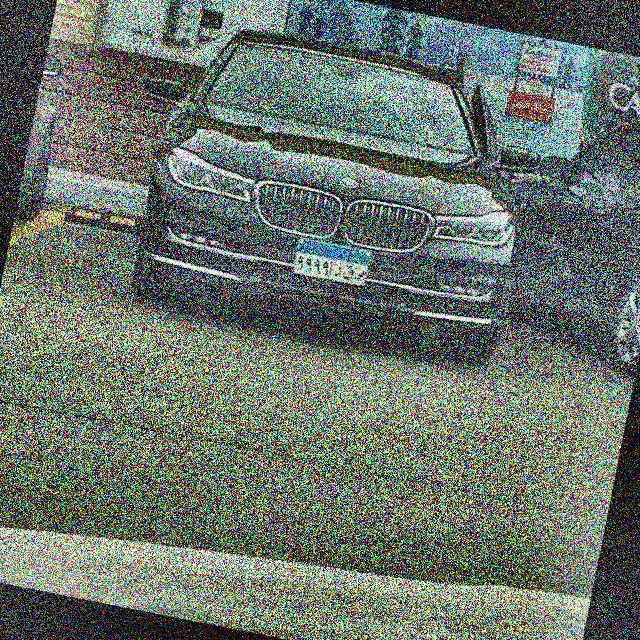License Plate: (289, 233, 375, 291)
